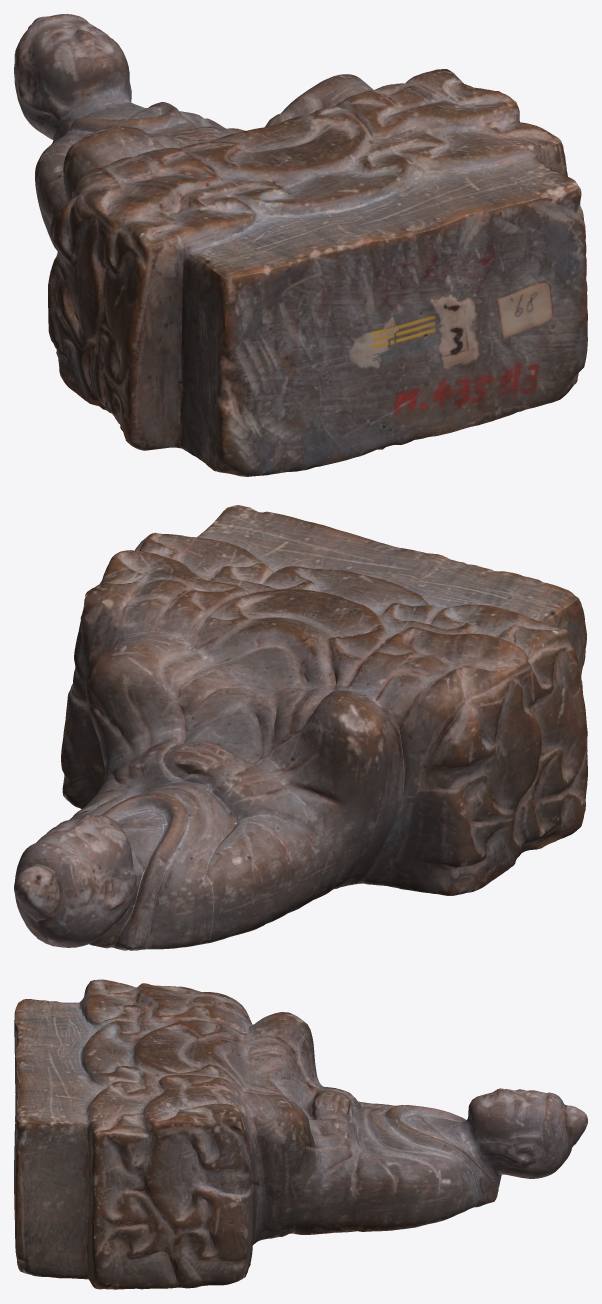
Rendered from nmk-188866.glb.
3 renders of one model, top to bottom at view 1: azimuth 30°, elevation 25°; view 2: azimuth 150°, elevation 25°; view 3: azimuth 270°, elevation 25°, orthographic. The views are drawn at different scales.
Parts seen in each view (by area): view 1: mno000435-30004; view 2: mno000435-30004; view 3: mno000435-30004.
Part boxes in pixels (bbox=[...]): mno000435-30004: bbox=[14, 14, 587, 476]; mno000435-30004: bbox=[14, 505, 587, 950]; mno000435-30004: bbox=[14, 979, 587, 1289].
Bounding box in the file's own units: 1.09 × 0.5326 × 1.59.
Materials: 1 (1 with a texture image).
